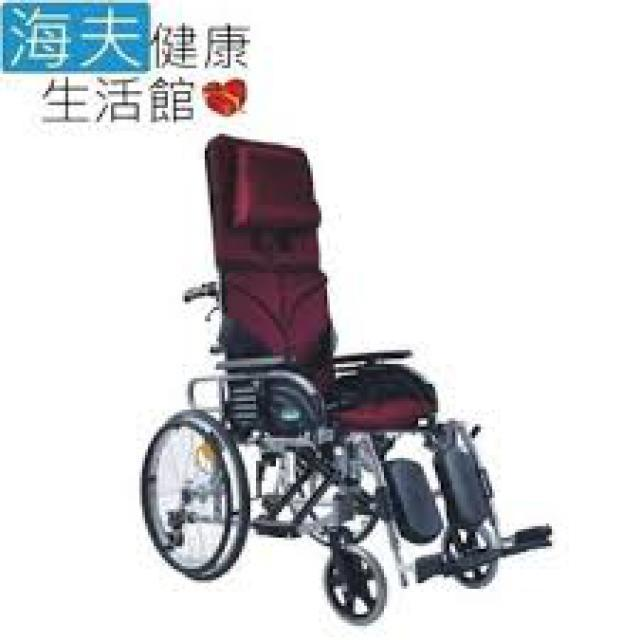wheelchair: (111, 128, 572, 623)
